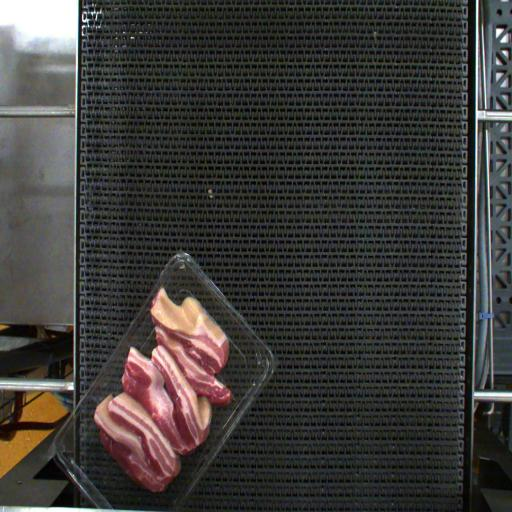twisted-meat: (157, 296, 232, 366)
